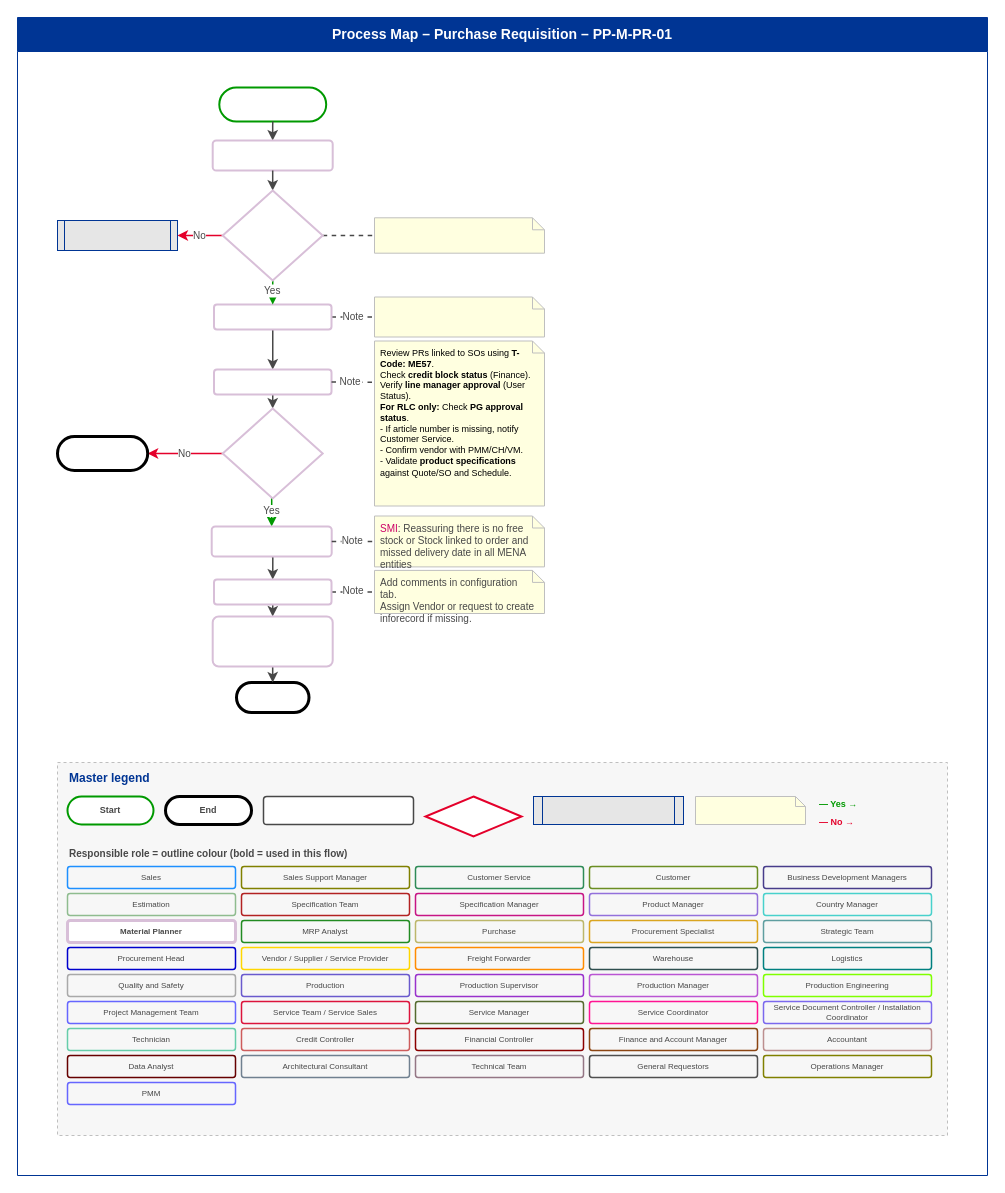
Image size: 1005x1193. Some labels were removed from this diagram. The centre of each missing label's shape, as x and y in pixels:
Activity (outline = role): point 338,810
Assign to Purchase Group and notify (Email) Purchaser to process PO: point 272,641
Check if SS to be updated as per Consumption: point 459,235
Check the Stock Availability: point 271,541
Convert to PR: point 272,316
Decision: point 473,816
Hold: point 102,453
Linked process (Ref ID): point 608,810
Modify SS & VSF Ref: PP-M-SS-01: point 117,235
Note / checklist: point 750,810
Planned order for Stock-to-order is converted to PR T-Code: MD15: point 459,316
PO Creation: point 272,697
PR Qualified: point 272,453
Purchase Requisition: point 272,104
To be processed: point 272,235
Update PR: point 272,591
Validate Planned-Order: point 272,155
Validate PR: point 272,381
